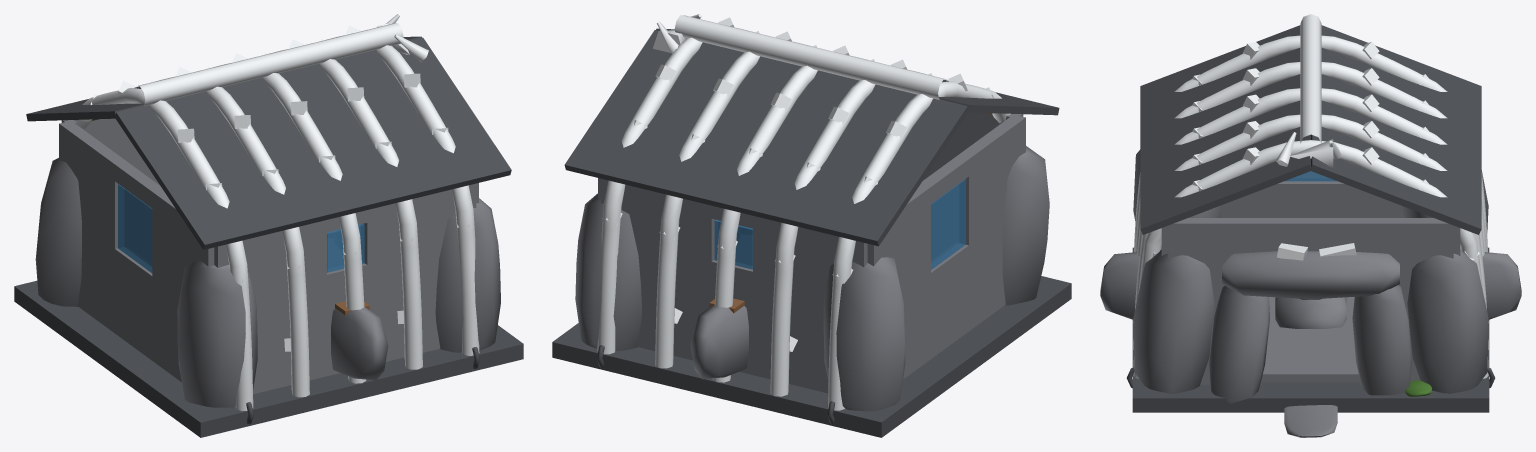
File: shrine-salt-mirror.glb
3 views of the same model, side by side, from view 1: azimuth 30°, elevation 25°; view 2: azimuth 150°, elevation 25°; view 3: azimuth 270°, elevation 25° (orthographic). The views are drawn at different scales.
Parts seen in each view (by area): view 1: Mesh_ShrineRoofPlanesA, Mesh_BasePlatform, Mesh_ButtressBR, Mesh_ShrineRoom_WallRight_L, Mesh_ShrineRoom_WallRight_R, Mesh_ShrineRoom_WallBack_L, Mesh_ButtressFR, Mesh_ShrineRoom_WallBack_R, Mesh_SpineBone, Mesh_ButtressBL, Mesh_Rib_1, Mesh_Rib_3 (+11 smaller); view 2: Mesh_ShrineRoofPlanesB, Mesh_BasePlatform, Mesh_ButtressBL, Mesh_ShrineRoom_WallLeft_L, Mesh_ShrineRoom_WallLeft_R, Mesh_ShrineRoom_WallBack_R, Mesh_ButtressFL, Mesh_ButtressBR, Mesh_SpineBone, Mesh_ShrineRoom_WallBack_L, Mesh_Rib_1, Mesh_Rib_3 (+11 smaller); view 3: Mesh_ShrineRoofPlanesB, Mesh_ShrineRoofPlanesA, Mesh_ButtressFR, Mesh_ButtressFL, Mesh_BasePlatform, Mesh_StoneLintel, Mesh_StonePillarR, Mesh_StonePillarL, Mesh_ShrineRoom_Floor, Mesh_ShrineRoom_WallFront_R, Mesh_ShrineRoom_WallFront_L, Mesh_Rib_4 (+16 smaller).
Boxes of the visible parts, bbox=[...] form: Mesh_ShrineRoofPlanesA: bbox=[115, 37, 511, 249]; Mesh_BasePlatform: bbox=[14, 280, 523, 437]; Mesh_ButtressBR: bbox=[177, 260, 257, 407]; Mesh_ShrineRoom_WallRight_L: bbox=[214, 220, 326, 394]; Mesh_ShrineRoom_WallRight_R: bbox=[363, 183, 476, 361]; Mesh_ShrineRoom_WallBack_L: bbox=[59, 121, 126, 332]; Mesh_ButtressFR: bbox=[435, 198, 500, 352]; Mesh_ShrineRoom_WallBack_R: bbox=[152, 189, 214, 382]; Mesh_SpineBone: bbox=[137, 23, 403, 106]; Mesh_ButtressBL: bbox=[35, 158, 81, 306]; Mesh_Rib_1: bbox=[156, 76, 309, 397]; Mesh_Rib_3: bbox=[271, 49, 422, 369]; Mesh_ShrineRoofPlanesB: bbox=[564, 30, 968, 246]; Mesh_BasePlatform: bbox=[552, 276, 1071, 437]; Mesh_ButtressBL: bbox=[823, 257, 905, 411]; Mesh_ShrineRoom_WallLeft_L: bbox=[753, 216, 867, 393]; Mesh_ShrineRoom_WallLeft_R: bbox=[600, 178, 715, 360]; Mesh_ShrineRoom_WallBack_R: bbox=[957, 116, 1025, 331]; Mesh_ButtressFL: bbox=[575, 193, 642, 350]; Mesh_ButtressBR: bbox=[1002, 146, 1049, 305]; Mesh_SpineBone: bbox=[674, 15, 947, 99]; Mesh_ShrineRoom_WallBack_L: bbox=[867, 184, 930, 379]; Mesh_Rib_1: bbox=[770, 69, 924, 396]; Mesh_Rib_3: bbox=[655, 41, 811, 368]; Mesh_ShrineRoofPlanesB: bbox=[1311, 25, 1481, 234]; Mesh_ShrineRoofPlanesA: bbox=[1140, 25, 1311, 234]; Mesh_ButtressFR: bbox=[1133, 249, 1214, 393]; Mesh_ButtressFL: bbox=[1407, 249, 1488, 393]; Mesh_BasePlatform: bbox=[1132, 247, 1489, 412]; Mesh_StoneLintel: bbox=[1222, 251, 1399, 299]; Mesh_StonePillarR: bbox=[1209, 286, 1269, 403]; Mesh_StonePillarL: bbox=[1352, 285, 1411, 395]; Mesh_ShrineRoom_Floor: bbox=[1262, 297, 1359, 382]; Mesh_ShrineRoom_WallFront_R: bbox=[1168, 218, 1261, 385]; Mesh_ShrineRoom_WallFront_L: bbox=[1360, 218, 1453, 385]; Mesh_Rib_4: bbox=[1133, 140, 1488, 378].
Bounding box in the file's own units: 4.7 × 3.28 × 4.73.
Materials: 3 (3 with a texture image).
